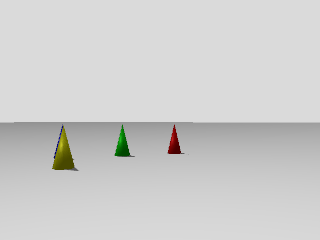green: (113, 123, 131, 157)
red: (166, 122, 182, 156)
yellow: (52, 126, 76, 170)
